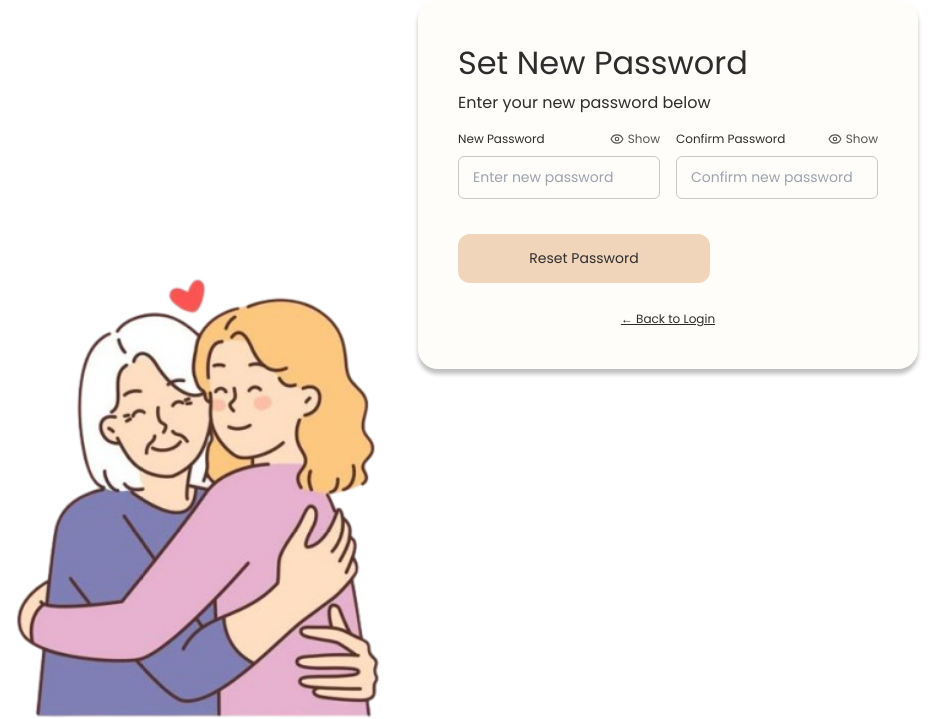
Test: ForgotPasswordNewPassword component › displays error when password validation fails
The width and height of the screenshot is (937, 719).
Step 1. Type "weak" into the password field with placeholder "Enter new password" → [559, 178], box [458, 156, 660, 199]
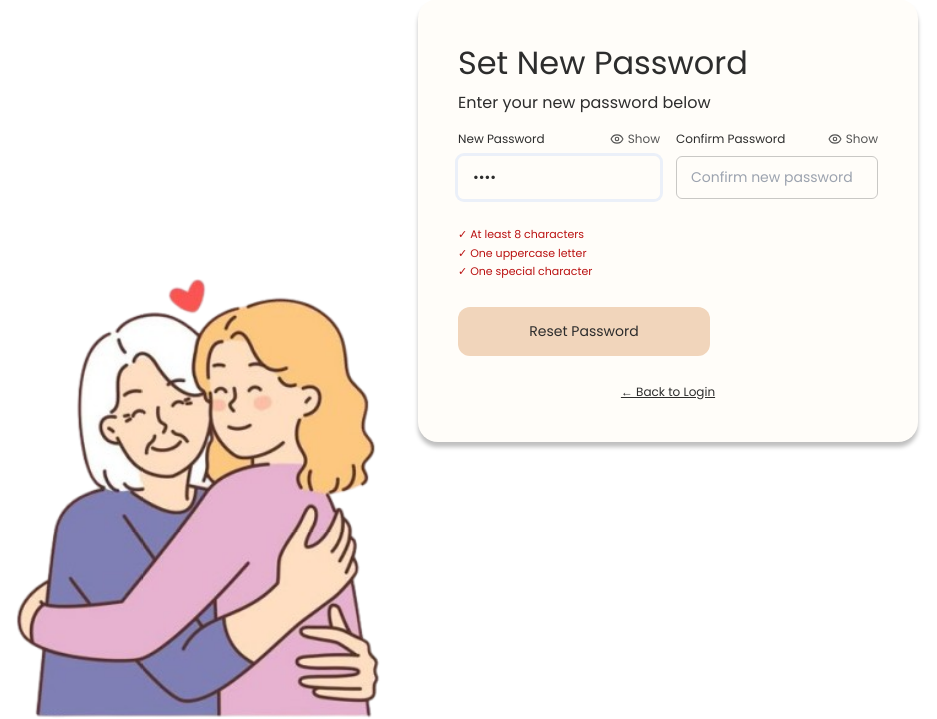
Step 2. Type "weak" into the password field with placeholder "Confirm new password" → [777, 178], box [676, 156, 878, 199]
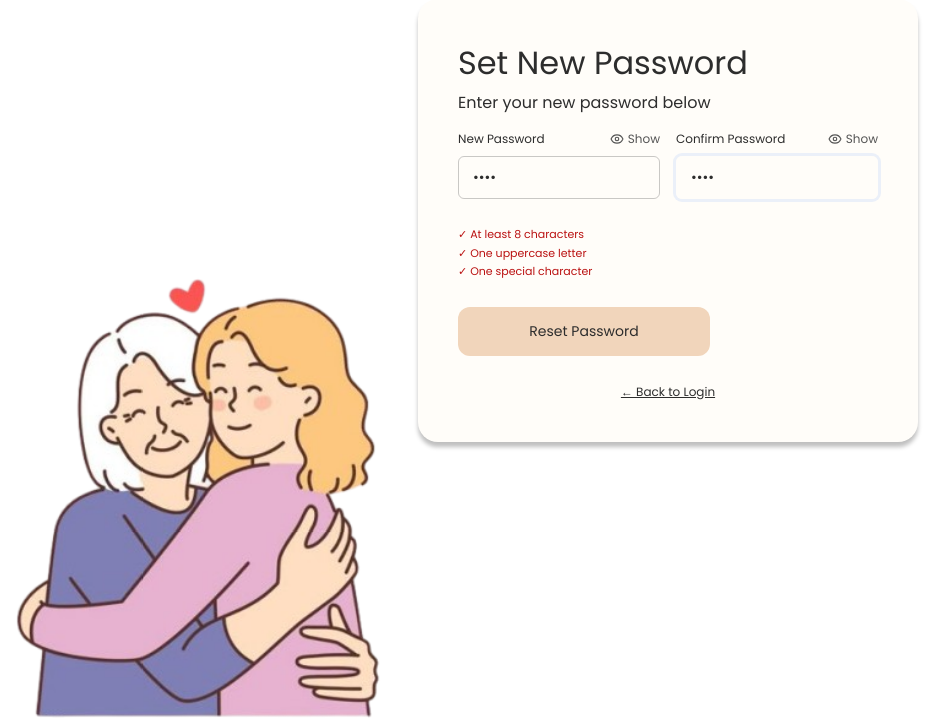
Step 3. Click the button "Reset Password" → [584, 331], box [458, 306, 710, 356]
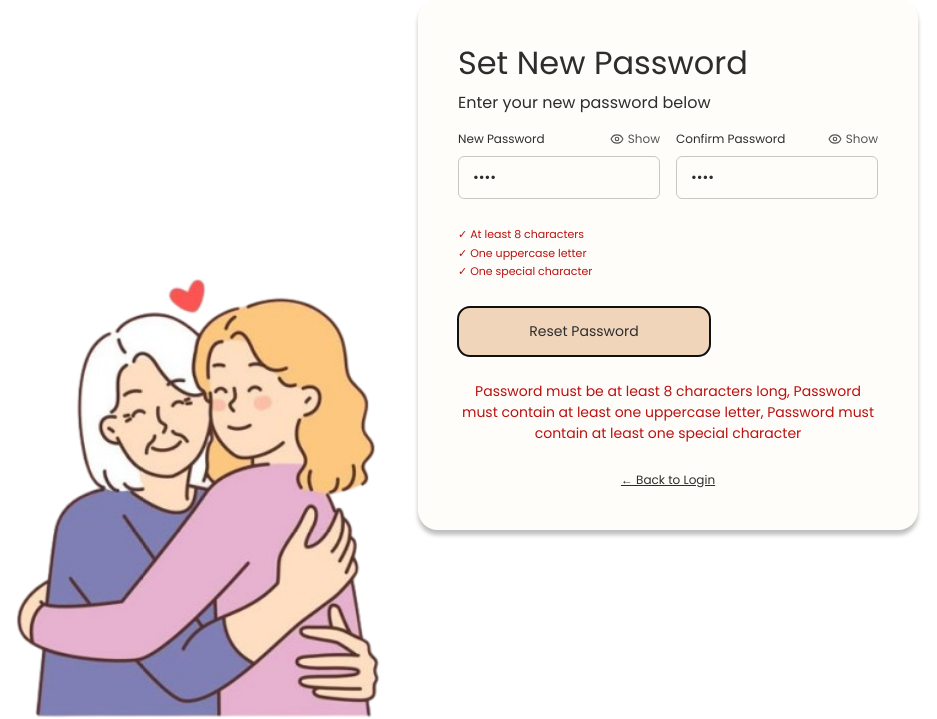
Expected: the text "Password must contain at least one special character" is shown, [462, 380, 874, 442]
